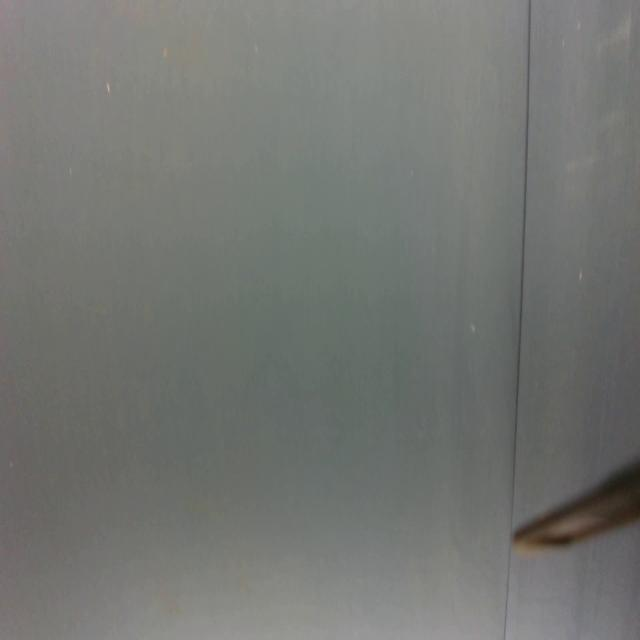crease: (511, 2, 534, 522), (502, 545, 512, 640)
hole: (105, 78, 112, 101), (68, 160, 75, 182), (162, 48, 170, 64), (470, 321, 477, 337), (578, 268, 584, 286)
